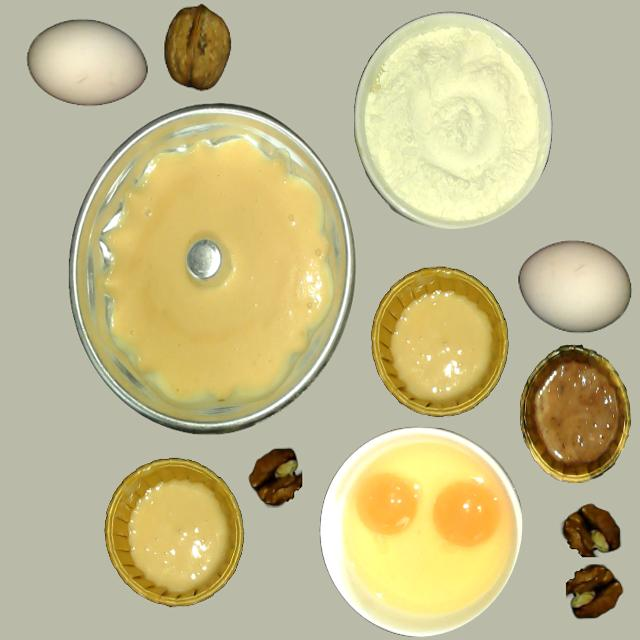Egg: (432, 482, 500, 548), (358, 474, 420, 535)
Flour: (353, 12, 549, 229)
Walnut: (164, 4, 230, 89)
